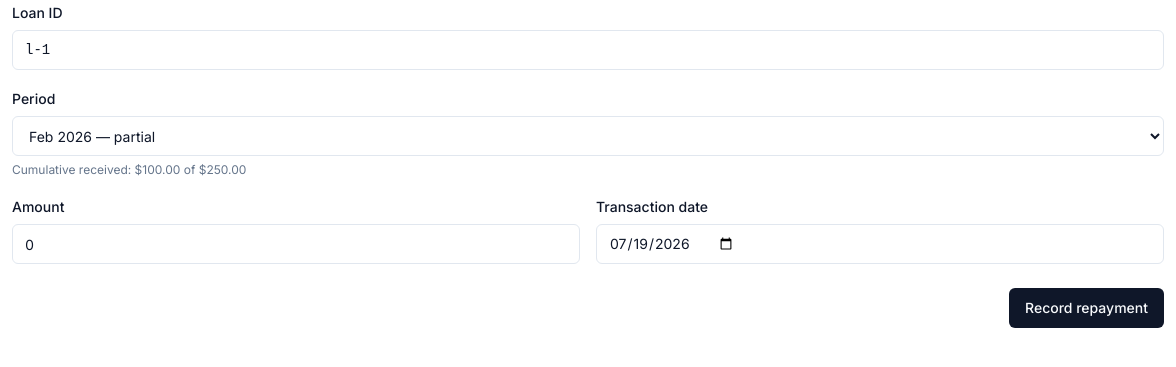
Scenario: RepaymentForm — create › maps a 422 fieldError back to the form
Expected: the dropdown labelled "Period" shows "Feb 2026 — partial", [12,116,1164,156]
Replace the text in the number field labelled "Amount" with "100" at (296, 244), box [12,224,580,264]
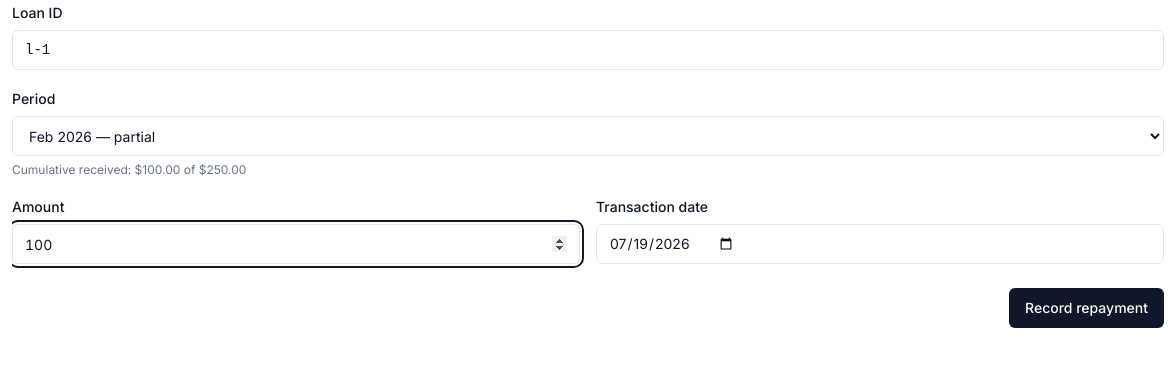
Click the button "Record repayment" at (1086, 308), box [1009,288,1164,328]
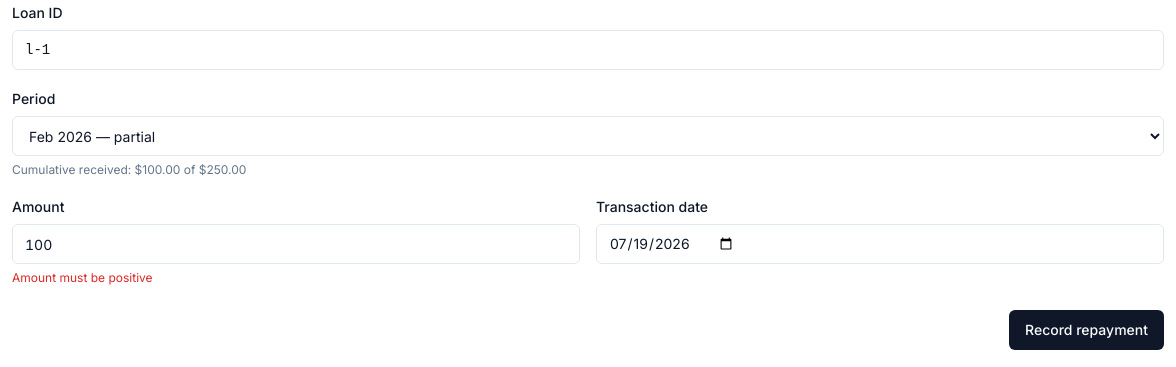
Expected: the text "Amount must be positive" is shown, [12,270,153,285]
